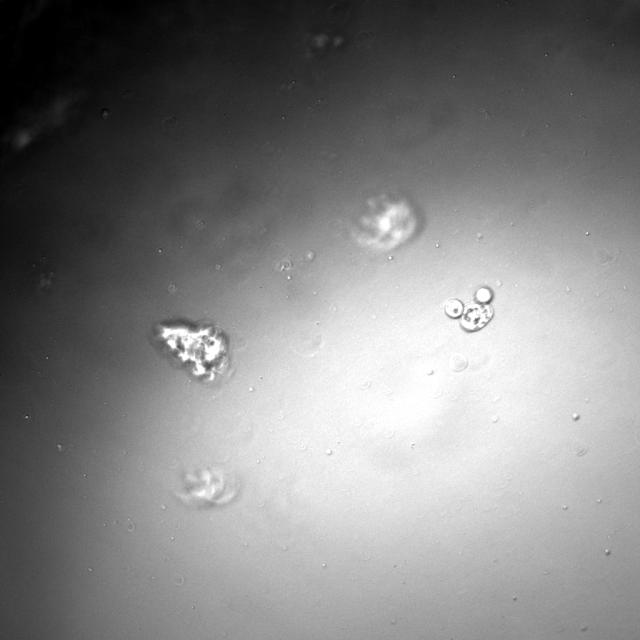organoid: (152, 321, 228, 381), (445, 286, 492, 331)
